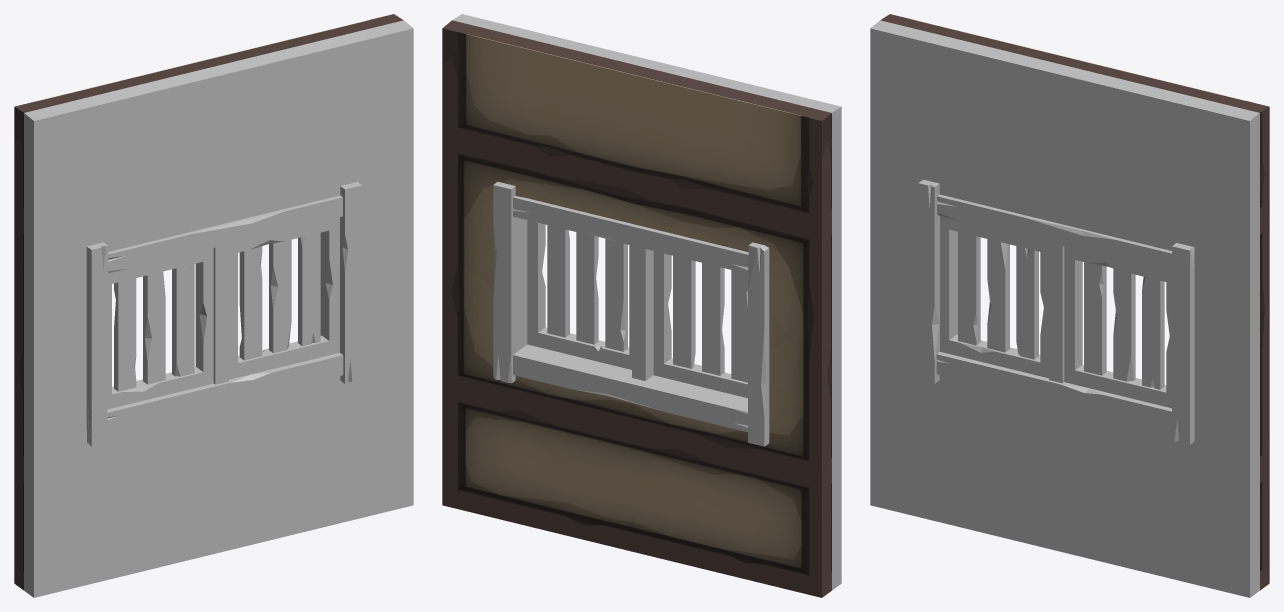
The model's file is SM_Bld_Wall_Window_05.fbx.
3 renders of one model, left to right at view 1: azimuth 30°, elevation 25°; view 2: azimuth 150°, elevation 25°; view 3: azimuth 330°, elevation 25°, orthographic.
Parts seen in each view (by area): view 1: SM_Bld_Wall_Window_05; view 2: SM_Bld_Wall_Window_05; view 3: SM_Bld_Wall_Window_05.
Boxes of the visible parts, x1,y1,x2,y2 form: SM_Bld_Wall_Window_05: (14,14,413,597); SM_Bld_Wall_Window_05: (442,14,841,597); SM_Bld_Wall_Window_05: (870,14,1269,597).
Size of the model in its own units: 250 by 301 by 33.42.
